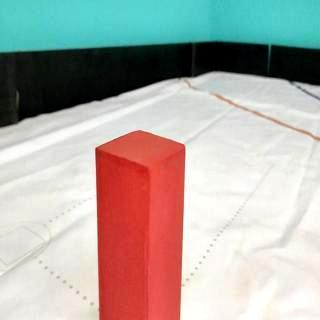redbox: (95, 129, 186, 320)
